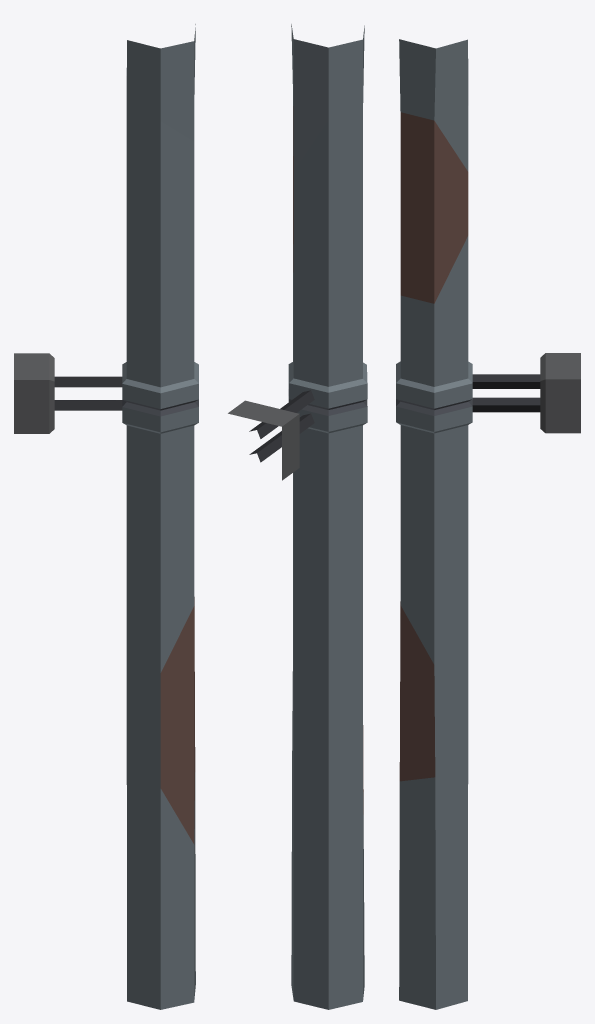
File: SM_Rainwater_Pipe_Center.gltf
3 renders of one model, left to right at view 1: azimuth 90°, elevation 25°; view 2: azimuth 150°, elevation 25°; view 3: azimuth 270°, elevation 25°, orthographic.
Parts seen in each view (by area): view 1: SM_Rainwater_Pipe_Center; view 2: SM_Rainwater_Pipe_Center; view 3: SM_Rainwater_Pipe_Center.
Boxes of the visible parts, x1,y1,x2,y2 form: SM_Rainwater_Pipe_Center: (14, 24, 198, 1009); SM_Rainwater_Pipe_Center: (228, 24, 367, 1009); SM_Rainwater_Pipe_Center: (396, 39, 580, 1009).
Bounding box in the file's own units: 0.2576 × 3 × 0.523.
Materials: 1 (1 with a texture image).
